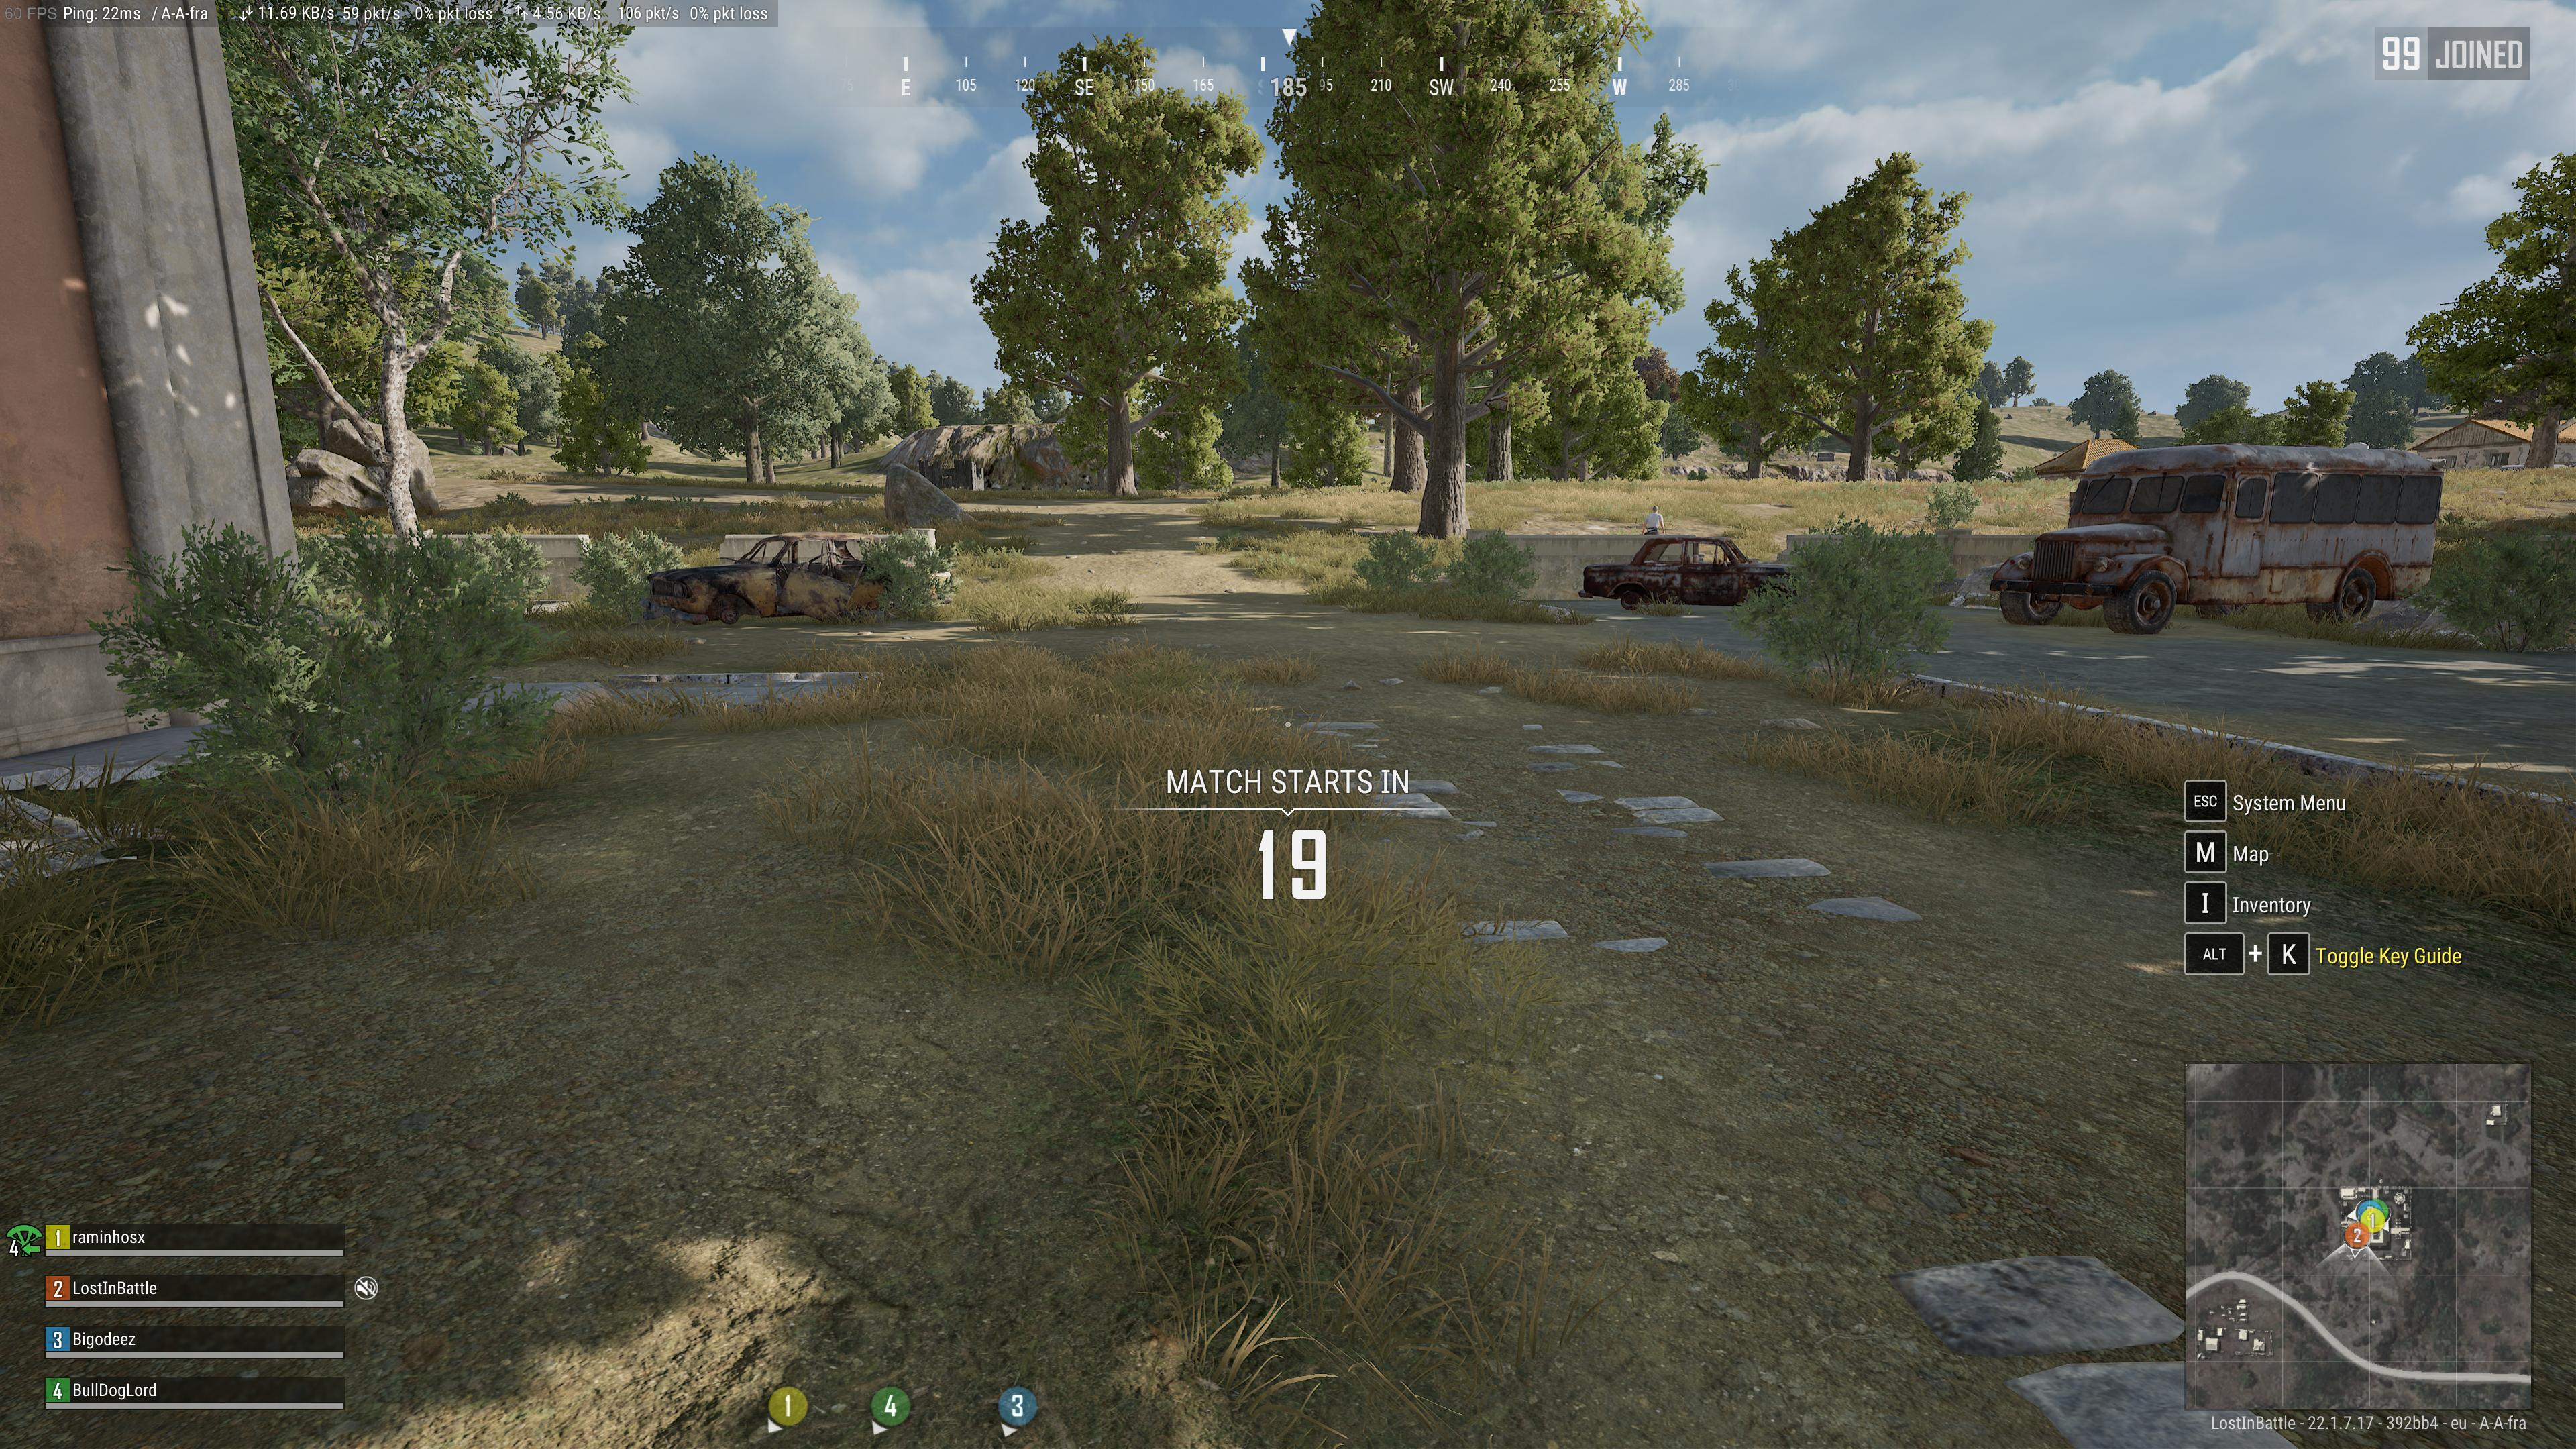enemy: (1640, 504, 1665, 534)
enemy_head: (1651, 504, 1660, 513)
